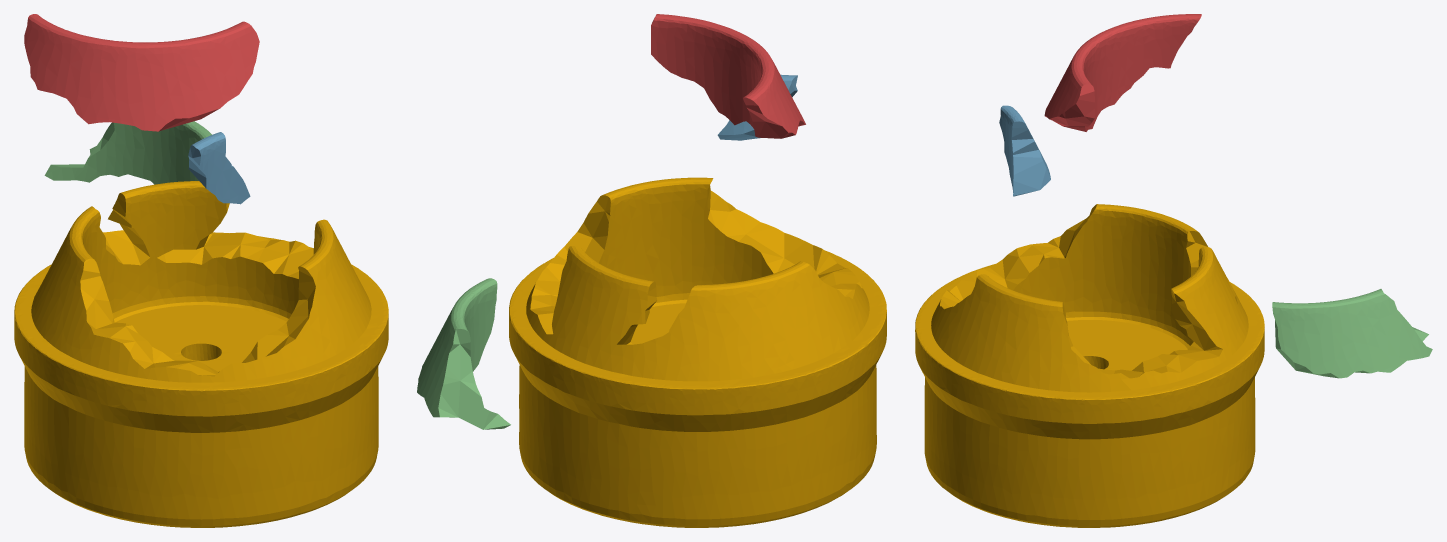
File: fractured_65_4pcs_transformed.glb
The picture shows the model from 3 angles, left to right: view 1: azimuth 30°, elevation 25°; view 2: azimuth 150°, elevation 25°; view 3: azimuth 270°, elevation 25°; orthographic projection. The views are drawn at different scales.
Parts seen in each view (by area): view 1: piece_0.obj, piece_1.obj, piece_3.obj, piece_2.obj; view 2: piece_0.obj, piece_1.obj, piece_3.obj, piece_2.obj; view 3: piece_0.obj, piece_3.obj, piece_1.obj, piece_2.obj.
Boxes of the visible parts, x1,y1,x2,y2 form: piece_0.obj: [14, 181, 388, 527]; piece_1.obj: [24, 14, 259, 131]; piece_3.obj: [44, 121, 211, 184]; piece_2.obj: [188, 132, 250, 204]; piece_0.obj: [509, 177, 886, 527]; piece_1.obj: [651, 14, 805, 138]; piece_3.obj: [417, 278, 510, 429]; piece_2.obj: [717, 74, 797, 140]; piece_0.obj: [915, 204, 1264, 527]; piece_3.obj: [1272, 289, 1432, 378]; piece_1.obj: [1044, 14, 1201, 131]; piece_2.obj: [999, 105, 1050, 196].
Bounding box in the file's own units: 1 × 1.26 × 1.48.
